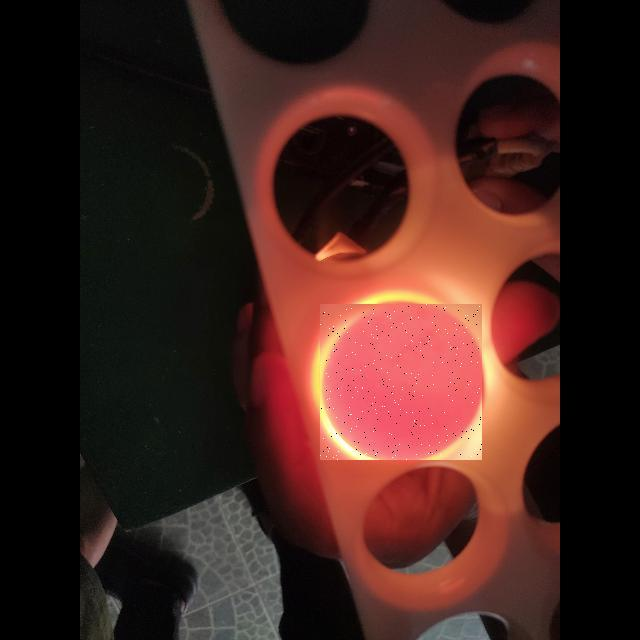A - Good: (320, 304, 482, 460)
